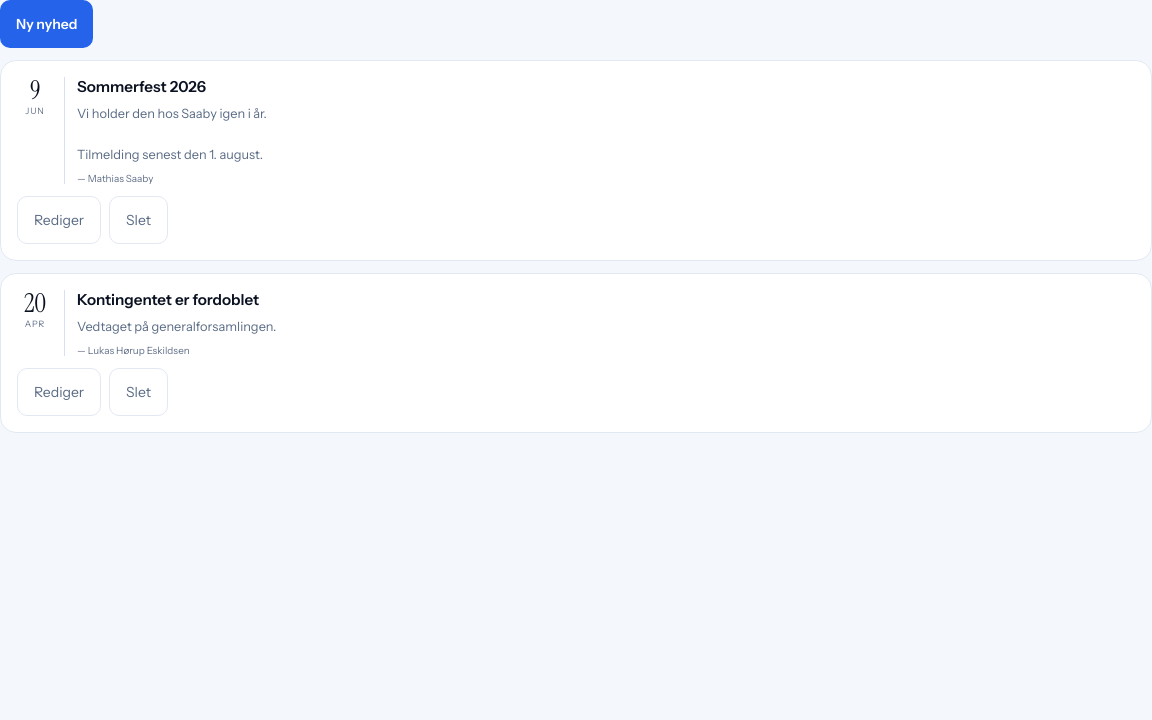
Scenario: writing a news item › dates a new item today, so nobody has to type it
This screenshot has width=1152, height=720.
Click the button "Ny nyhed". click: (47, 24)
box: [0,0,94,48]
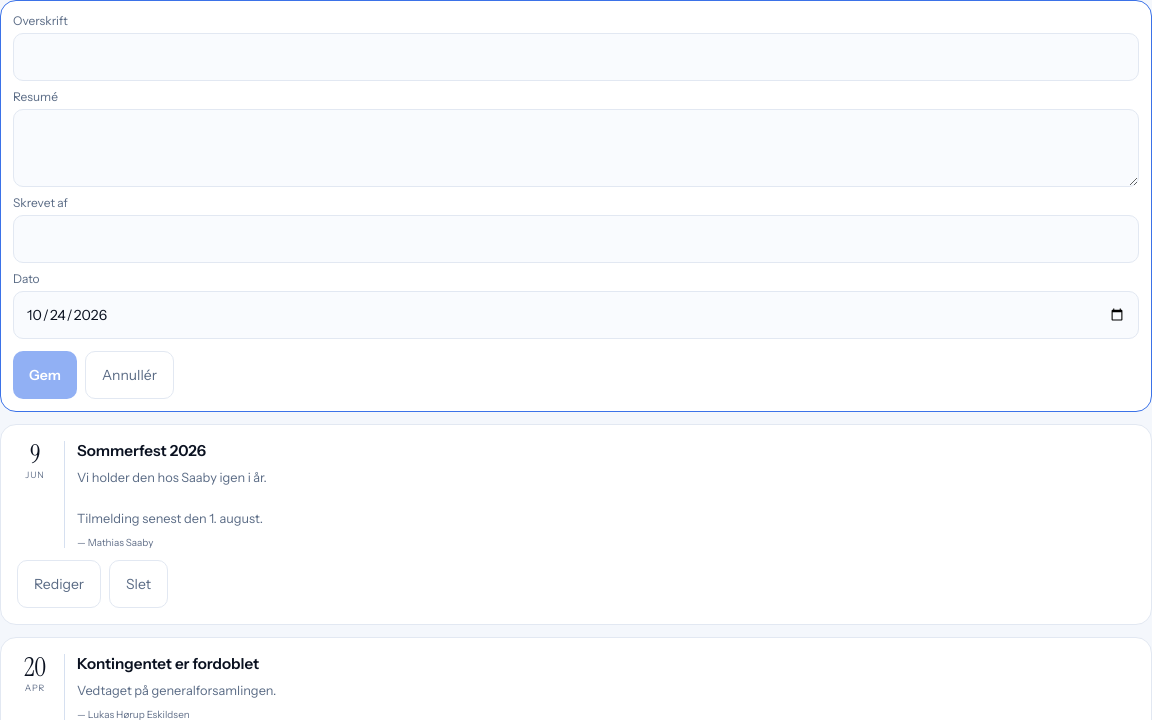
Now the date field labelled "Dato" holds "2026-10-24", box [13,291,1139,339]
